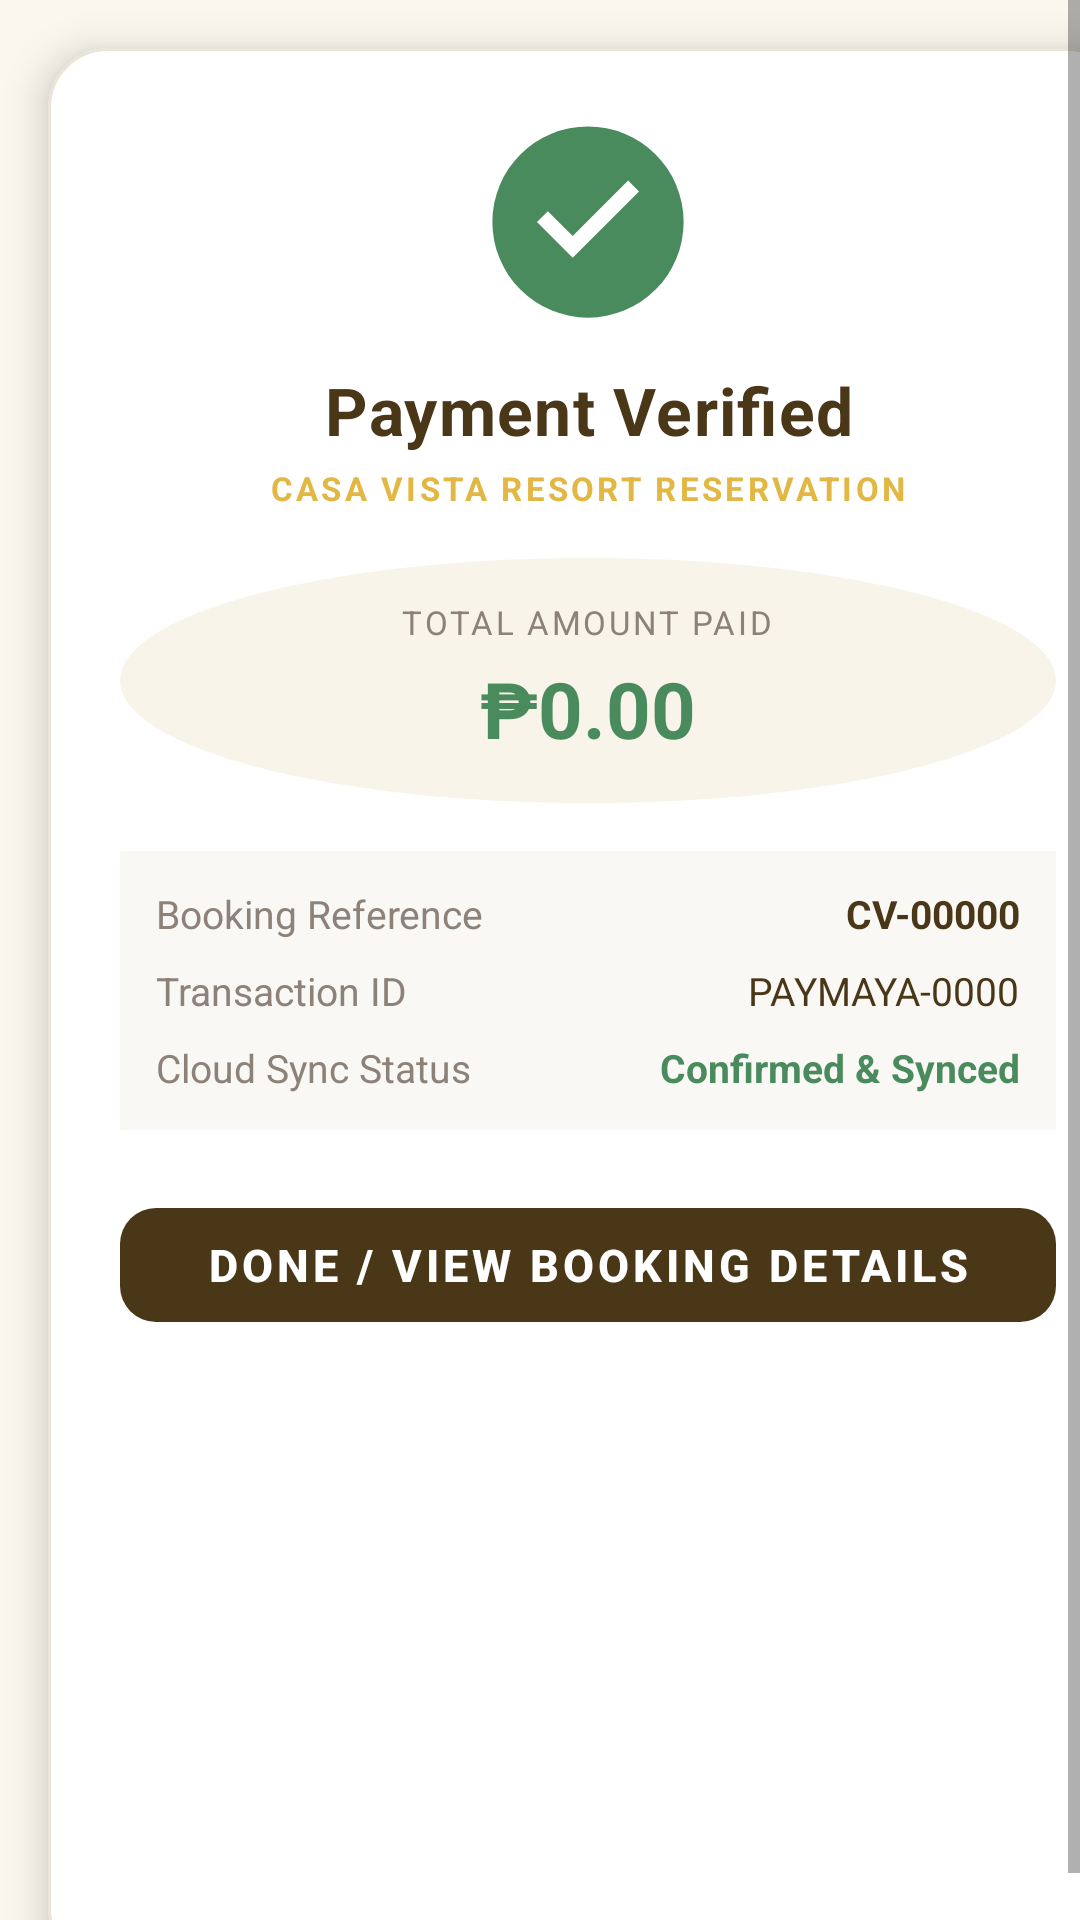

Where to tap for icons on this 1080*1920 app screen, as (x=x, y=y):
Verified Checkmark: (x=588, y=222)
